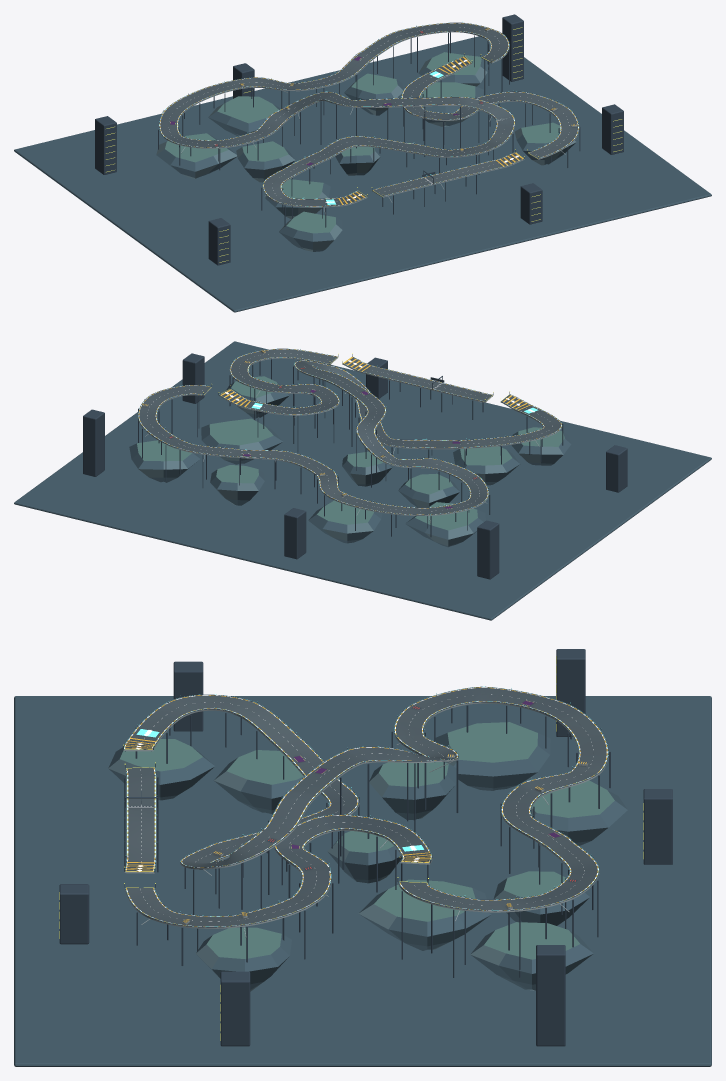
File: app3-circuit.glb
3 renders of one model, top to bottom at view 1: azimuth 30°, elevation 25°; view 2: azimuth 150°, elevation 25°; view 3: azimuth 270°, elevation 25°, orthographic. The views are drawn at different scales.
Parts seen in each view (by area): view 1: Deep blue presentation plinth, ROAD / genuinely open gaps / 22m wide, 04 FLOATING FOUNDRY / Basalt cliffs, 04 FLOATING FOUNDRY / Dark blue structural steel, 02 BRIDGES / Dark blue structural steel, 02 BRIDGES / Warm pale concrete, 02 BRIDGES / Safety ochre, 02 BRIDGES / Warm white road paint; view 2: Deep blue presentation plinth, 04 FLOATING FOUNDRY / Basalt cliffs, ROAD / genuinely open gaps / 22m wide, 04 FLOATING FOUNDRY / Dark blue structural steel, 02 BRIDGES / Dark blue structural steel, 02 BRIDGES / Warm pale concrete, 02 BRIDGES / Safety ochre, 02 BRIDGES / Warm white road paint; view 3: Deep blue presentation plinth, 04 FLOATING FOUNDRY / Basalt cliffs, ROAD / genuinely open gaps / 22m wide, 04 FLOATING FOUNDRY / Dark blue structural steel, 02 BRIDGES / Dark blue structural steel, 02 BRIDGES / Warm pale concrete, 02 BRIDGES / Safety ochre, 02 BRIDGES / Warm white road paint, 02 BRIDGES / Turquoise edge guide.
Part boxes in pixels (x1,y1,x2,y2): Deep blue presentation plinth: [14, 36, 711, 312]; ROAD / genuinely open gaps / 22m wide: [160, 23, 578, 205]; 04 FLOATING FOUNDRY / Basalt cliffs: [156, 52, 576, 251]; 04 FLOATING FOUNDRY / Dark blue structural steel: [95, 14, 623, 265]; 02 BRIDGES / Dark blue structural steel: [158, 22, 580, 227]; 02 BRIDGES / Warm pale concrete: [159, 31, 579, 214]; 02 BRIDGES / Safety ochre: [159, 23, 578, 206]; 02 BRIDGES / Warm white road paint: [159, 23, 578, 206]; Deep blue presentation plinth: [14, 341, 711, 620]; 04 FLOATING FOUNDRY / Basalt cliffs: [129, 376, 571, 547]; ROAD / genuinely open gaps / 22m wide: [139, 349, 560, 514]; 04 FLOATING FOUNDRY / Dark blue structural steel: [83, 353, 627, 579]; 02 BRIDGES / Dark blue structural steel: [138, 348, 563, 537]; 02 BRIDGES / Warm pale concrete: [138, 357, 562, 523]; 02 BRIDGES / Safety ochre: [138, 349, 561, 514]; 02 BRIDGES / Warm white road paint: [138, 349, 561, 514]; Deep blue presentation plinth: [14, 696, 711, 1066]; 04 FLOATING FOUNDRY / Basalt cliffs: [108, 722, 627, 991]; ROAD / genuinely open gaps / 22m wide: [124, 687, 607, 926]; 04 FLOATING FOUNDRY / Dark blue structural steel: [59, 649, 672, 1046]; 02 BRIDGES / Dark blue structural steel: [123, 686, 610, 977]; 02 BRIDGES / Warm pale concrete: [123, 702, 608, 938]; 02 BRIDGES / Safety ochre: [124, 687, 607, 926]; 02 BRIDGES / Warm white road paint: [124, 687, 607, 926]; 02 BRIDGES / Turquoise edge guide: [124, 686, 608, 926].
Bounding box in the file's own units: 650 × 109 × 520.
12 materials, 1 textured.
